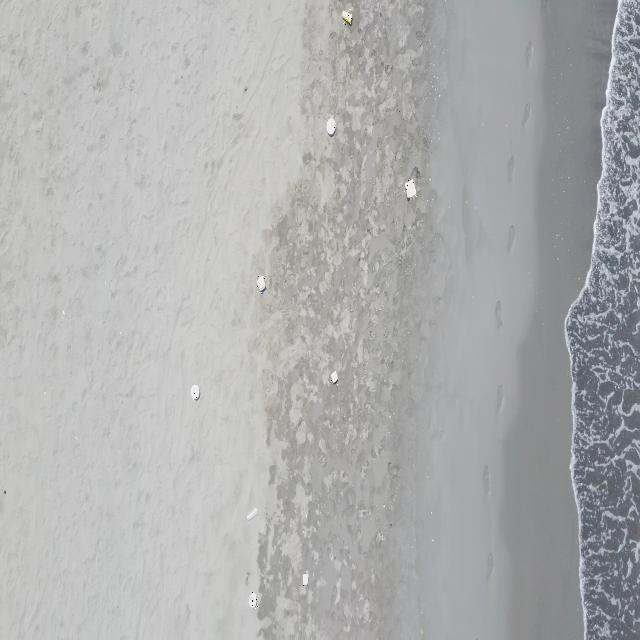take-away-containers: (404, 178, 417, 199), (248, 592, 258, 610), (190, 383, 200, 401), (256, 276, 266, 294), (326, 118, 336, 136), (331, 370, 338, 385), (302, 573, 309, 587)
takeaway-cup: (246, 504, 259, 522), (342, 9, 352, 26)
